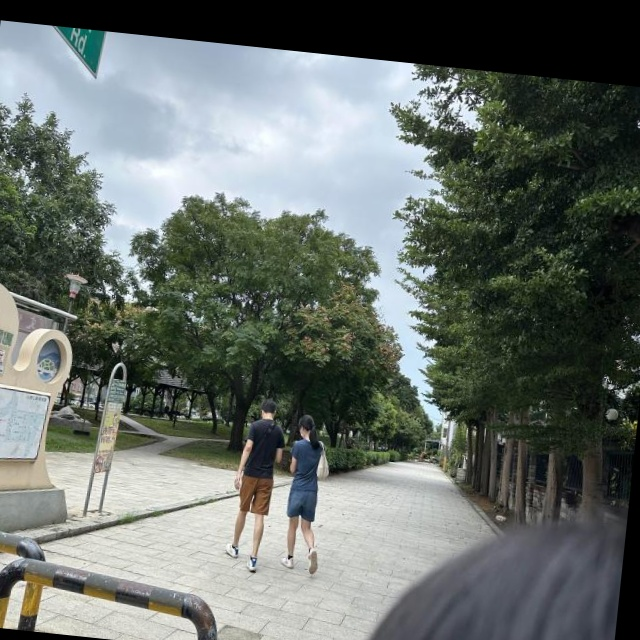Sin_Casco_Mascarrilla: (297, 414, 315, 436), (261, 398, 276, 418)
Sin_Chaleco: (247, 419, 280, 477), (290, 439, 323, 490)
